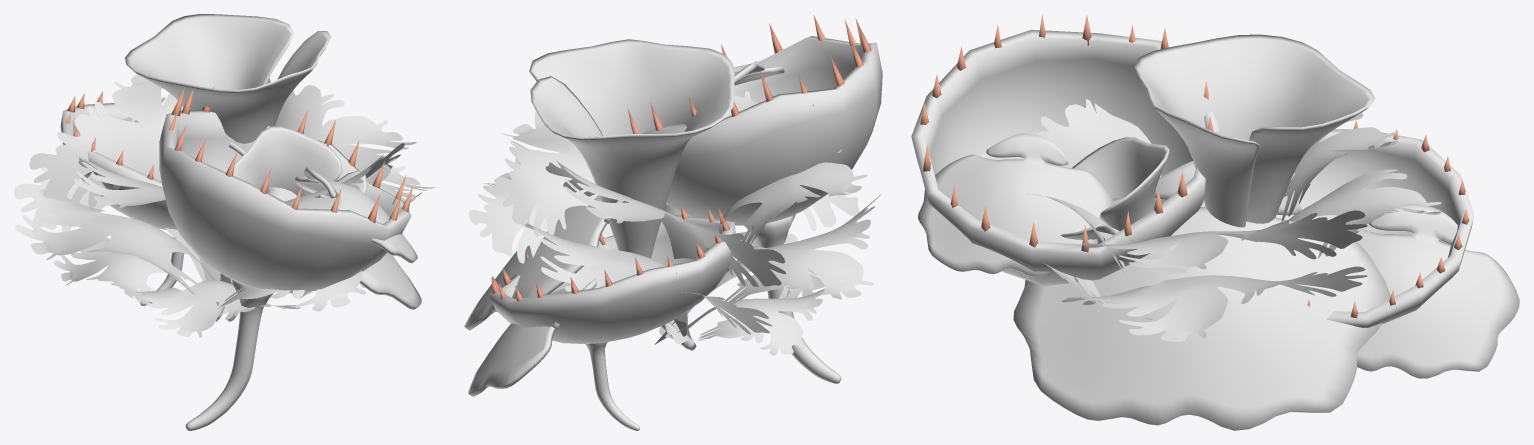
Rendered from Hongos 2.fbx.
3 views of the same model, side by side, from view 1: azimuth 30°, elevation 25°; view 2: azimuth 150°, elevation 25°; view 3: azimuth 270°, elevation 25° (orthographic). The views are drawn at different scales.
Parts seen in each view (by area): view 1: Plane.010, Sphere, Cylinder, Plane.001, Sphere.001, Cone.007, Cone.000; view 2: Plane.010, Sphere, Cylinder, Sphere.001, Plane.001, Cone.007, Cone.000; view 3: Plane.001, Cylinder, Sphere, Plane.010, Sphere.001, Cone.007, Cone.000.
Part boxes in pixels (x1,y1,x2,y2): Plane.010: (14, 74, 435, 337); Sphere: (159, 110, 411, 430); Cylinder: (125, 14, 367, 322); Plane.001: (229, 142, 421, 309); Sphere.001: (60, 103, 184, 305); Cone.007: (163, 86, 412, 223); Cone.000: (62, 91, 153, 179); Plane.010: (468, 91, 881, 355); Sphere: (641, 36, 882, 383); Cylinder: (529, 39, 734, 350); Sphere.001: (488, 215, 735, 430); Plane.001: (464, 61, 784, 396); Cone.007: (627, 15, 871, 133); Cone.000: (491, 204, 729, 301); Plane.001: (918, 133, 1519, 430); Cylinder: (1060, 34, 1374, 243); Sphere: (911, 29, 1219, 285); Plane.010: (982, 99, 1441, 341); Sphere.001: (1276, 129, 1474, 327); Cone.007: (920, 14, 1213, 252); Cone.000: (1307, 120, 1469, 318).
Bounding box in the file's own units: 101 × 82.42 × 126.
